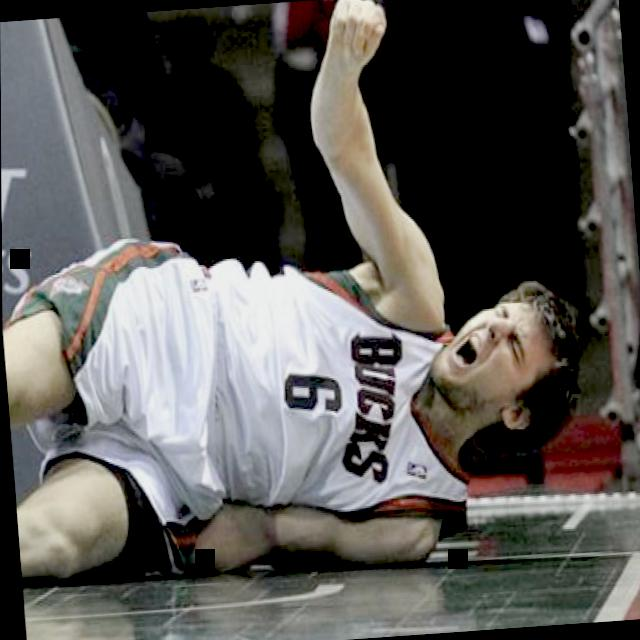Fall-Detected: (0, 0, 599, 625)
